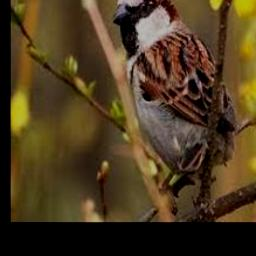Sparrow: (111, 0, 236, 194)
